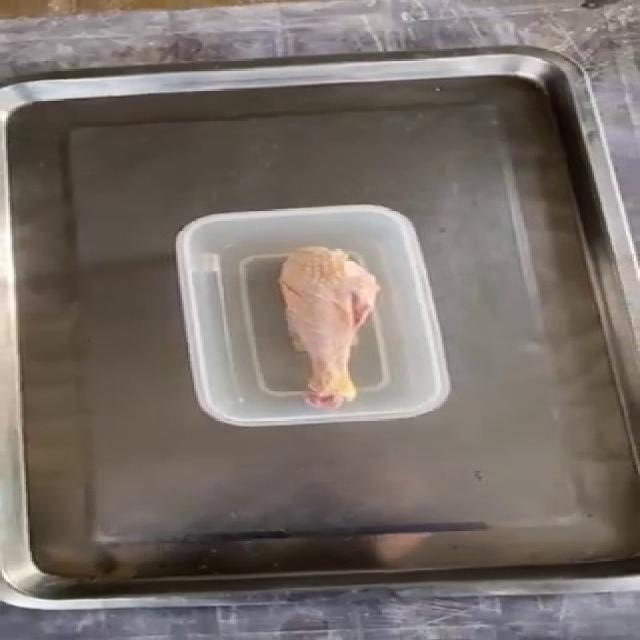chicken: (276, 245, 381, 409)
